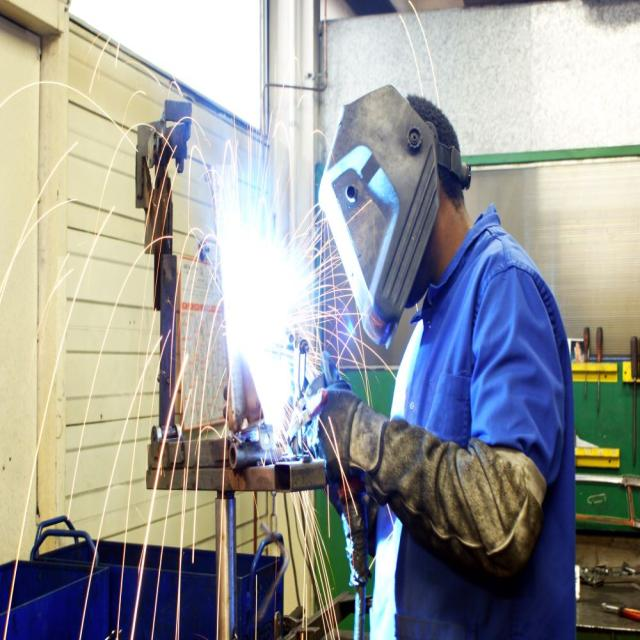welding: (225, 244, 293, 401)
